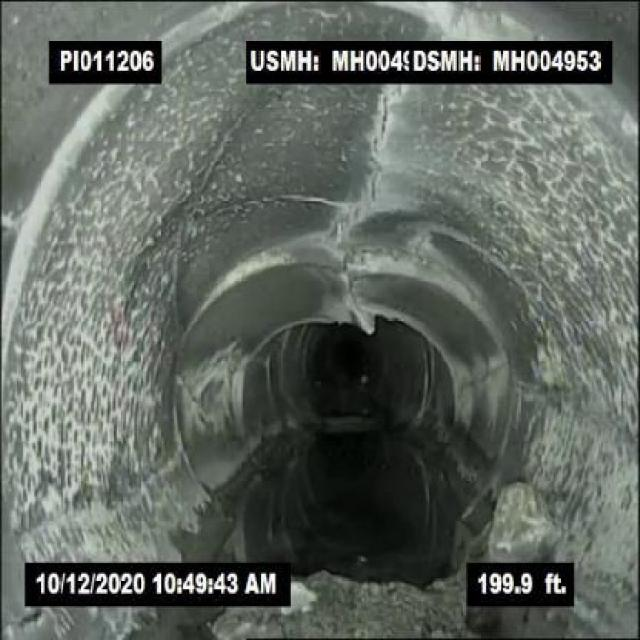Buckling: (358, 86, 397, 220), (331, 244, 383, 338)
Crack: (25, 459, 177, 543), (230, 191, 342, 212)
Joint offset: (6, 91, 105, 294), (197, 230, 317, 304), (397, 246, 472, 302), (166, 3, 252, 42)
Obstacle: (206, 566, 460, 639)
